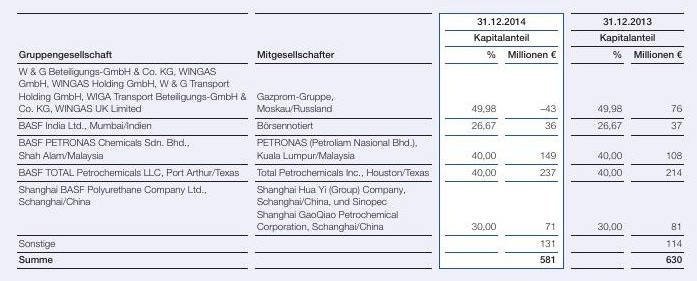table: (0, 0, 697, 281)
